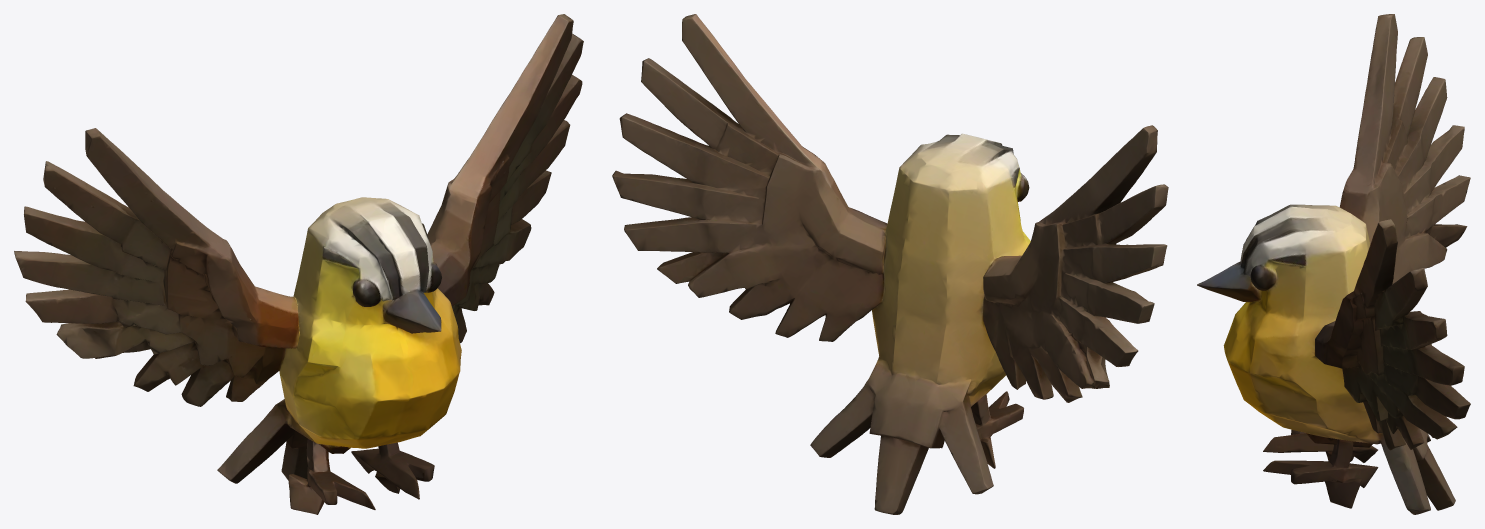
Rendered from passaro.glb.
3 renders of one model, left to right at view 1: azimuth 30°, elevation 25°; view 2: azimuth 150°, elevation 25°; view 3: azimuth 270°, elevation 25°, orthographic. The views are drawn at different scales.
Parts seen in each view (by area): view 1: tripo_node_43703bc4-6a76-49e7-b6ef-5501329255ae; view 2: tripo_node_43703bc4-6a76-49e7-b6ef-5501329255ae; view 3: tripo_node_43703bc4-6a76-49e7-b6ef-5501329255ae.
Part boxes in pixels (box(x1,y1,x2,y2)): tripo_node_43703bc4-6a76-49e7-b6ef-5501329255ae: box(14, 14, 583, 514); tripo_node_43703bc4-6a76-49e7-b6ef-5501329255ae: box(612, 14, 1168, 514); tripo_node_43703bc4-6a76-49e7-b6ef-5501329255ae: box(1197, 14, 1470, 514).
Size of the model in its own units: 1 by 0.7368 by 0.4694.
Materials: 1 (1 with a texture image).
